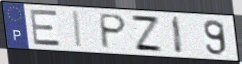9: (203, 18, 228, 56)
E: (29, 9, 64, 48)
I: (171, 15, 185, 56), (72, 10, 84, 49)
P: (99, 12, 129, 50)
Z: (129, 14, 165, 53)
